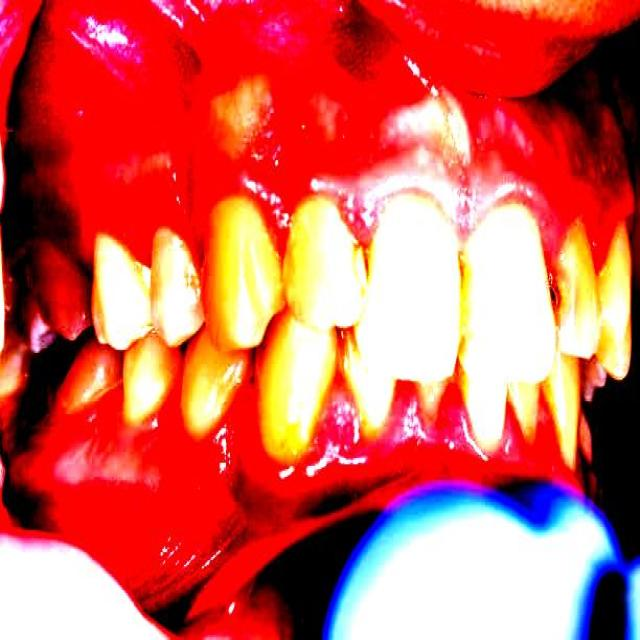caries: (540, 265, 572, 335)
